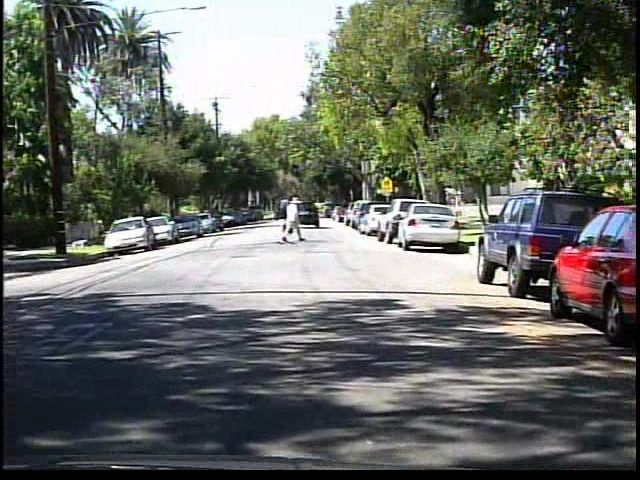person: (279, 195, 307, 245)
